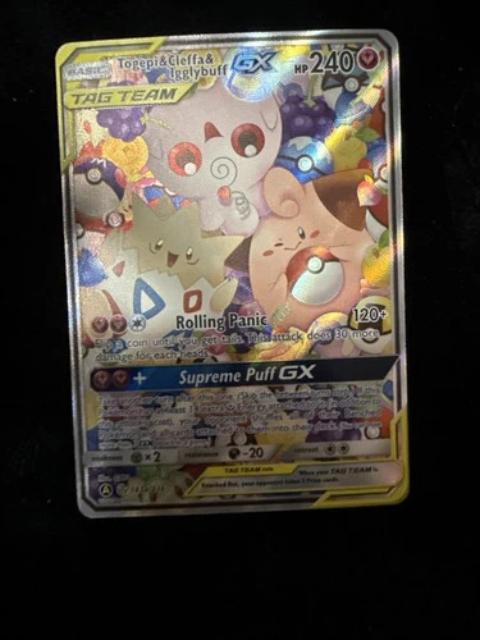Card: (51, 25, 416, 524)
Name: (116, 44, 286, 86)
